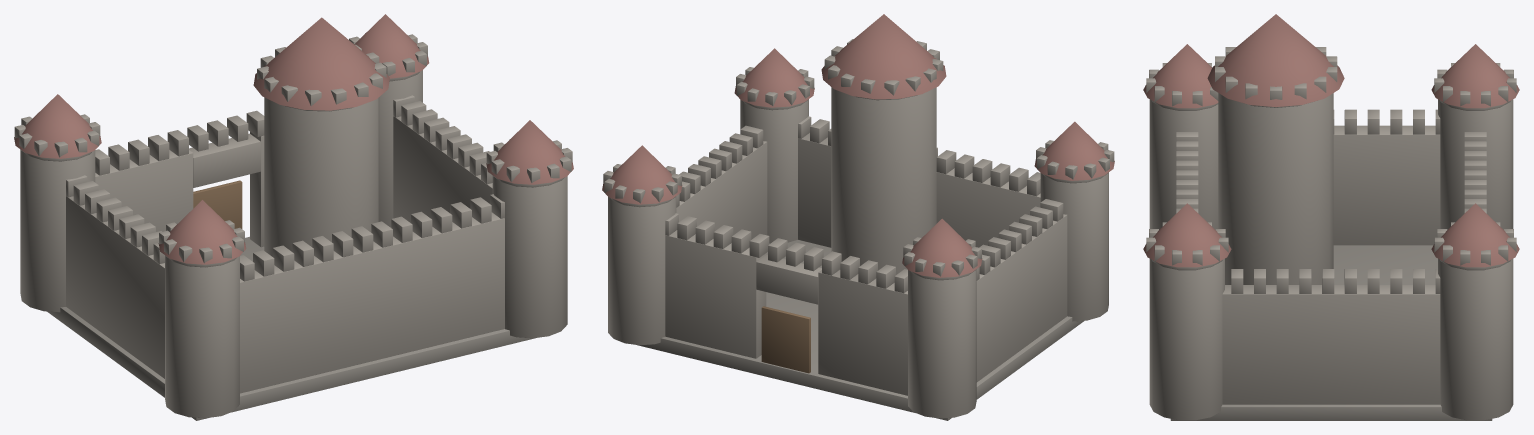
File: th9_burg.glb
The picture shows the model from 3 angles, left to right: view 1: azimuth 30°, elevation 25°; view 2: azimuth 150°, elevation 25°; view 3: azimuth 270°, elevation 25°; orthographic projection. The views are drawn at different scales.
Parts seen in each view (by area): view 1: Cube.001, Cylinder.008, Cylinder.006, Cube.003, Cylinder.004, Cylinder.002, Cube, Cone.004, Cube.002, Cube.005, Cone.001, Cone.002 (+6 smaller); view 2: Cylinder.008, Cube.004, Cylinder.002, Cube.003, Cube.005, Cube.001, Cylinder, Cube, Cylinder.006, Cone.004, Cylinder.004, Cube.002 (+6 smaller); view 3: Cube.002, Cylinder.008, Cube.003, Cylinder.004, Cylinder, Cube, Cone.004, Cylinder.002, Cylinder.006, Cone, Cone.002, Cone.001 (+1 smaller).
Boxes of the visible parts, bbox=[...] form: Cube.001: bbox=[240, 212, 504, 393]; Cylinder.008: bbox=[264, 97, 379, 256]; Cylinder.006: bbox=[165, 255, 239, 418]; Cube.003: bbox=[66, 196, 164, 378]; Cylinder.004: bbox=[492, 175, 567, 338]; Cylinder.002: bbox=[20, 149, 95, 312]; Cube: bbox=[47, 227, 535, 420]; Cone.004: bbox=[253, 17, 389, 110]; Cube.002: bbox=[393, 116, 492, 222]; Cube.005: bbox=[95, 150, 193, 231]; Cone.001: bbox=[14, 94, 101, 158]; Cone.002: bbox=[486, 120, 573, 184]; Cylinder.008: bbox=[831, 87, 936, 274]; Cube.004: bbox=[665, 230, 766, 358]; Cylinder.002: bbox=[908, 269, 976, 418]; Cube.003: bbox=[976, 214, 1067, 382]; Cube.005: bbox=[818, 270, 907, 395]; Cube.001: bbox=[798, 133, 1040, 247]; Cylinder: bbox=[608, 197, 676, 345]; Cube: bbox=[637, 240, 1084, 420]; Cylinder.006: bbox=[1040, 173, 1108, 321]; Cone.004: bbox=[821, 14, 946, 99]; Cylinder.004: bbox=[740, 99, 808, 243]; Cube.002: bbox=[676, 141, 767, 239]; Cube.002: bbox=[1222, 285, 1440, 404]; Cylinder.008: bbox=[1218, 93, 1333, 284]; Cube.003: bbox=[1333, 125, 1440, 245]; Cylinder.004: bbox=[1149, 258, 1224, 420]; Cylinder: bbox=[1438, 258, 1513, 420]; Cube: bbox=[1170, 245, 1492, 420]; Cone.004: bbox=[1207, 14, 1344, 107]; Cylinder.002: bbox=[1438, 99, 1513, 229]; Cylinder.006: bbox=[1149, 99, 1218, 229]; Cone: bbox=[1431, 203, 1519, 267]; Cone.002: bbox=[1143, 203, 1231, 267]; Cone.001: bbox=[1431, 44, 1519, 108].
Size of the model in its own units: 41.77 by 31.9 by 33.97.
